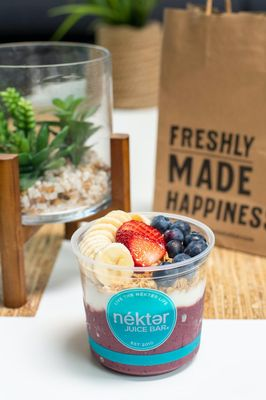pizza: (69, 209, 216, 377), (0, 40, 114, 227)
